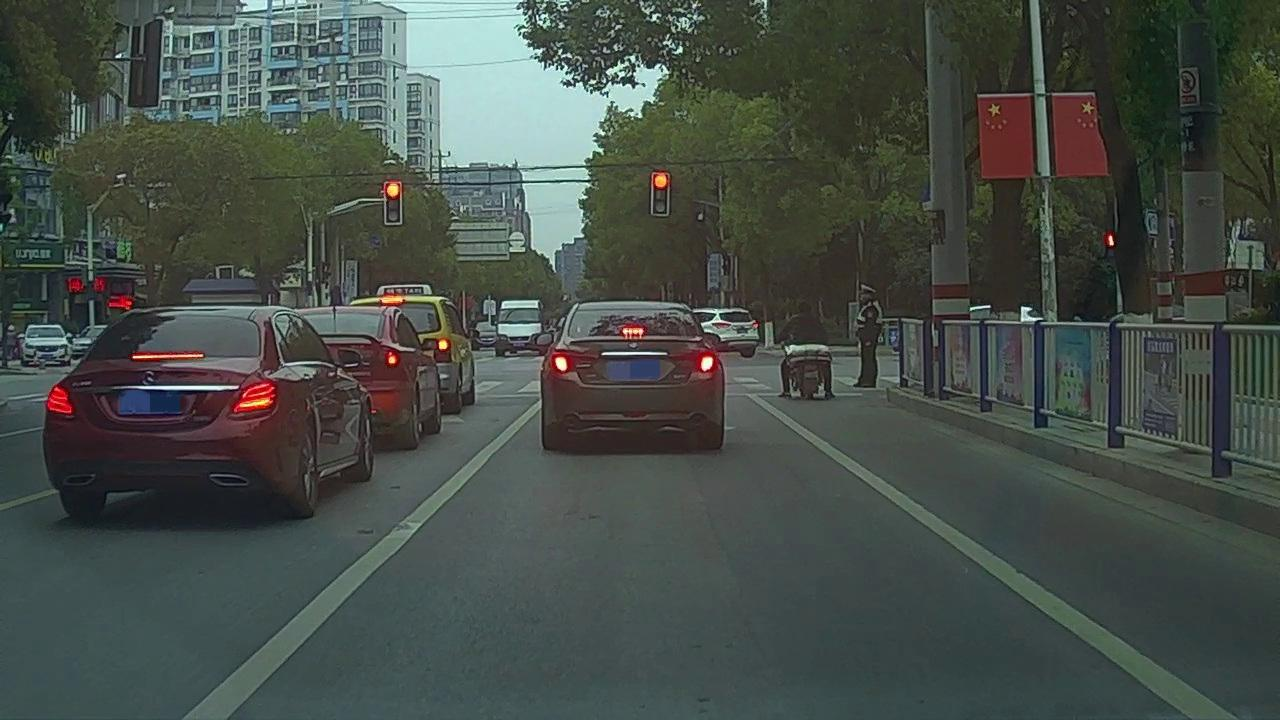traffic_light: (651, 173, 667, 213), (385, 182, 399, 224)
